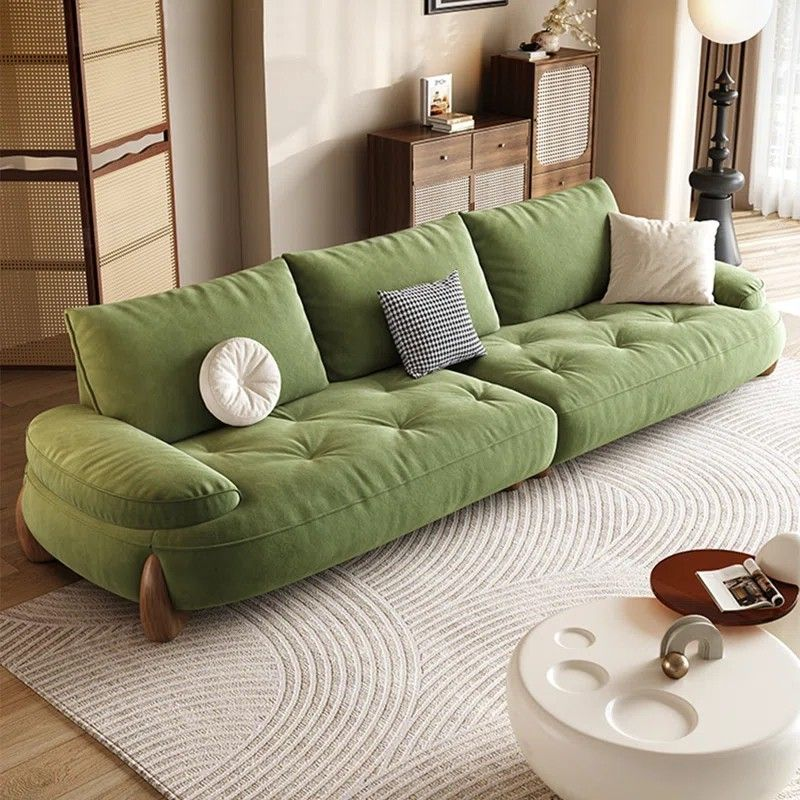3seatersofa: (17, 178, 783, 640)
backrest: (62, 171, 633, 443)
leftarmrest: (714, 263, 765, 309)
leg: (139, 555, 186, 641), (16, 489, 53, 562), (757, 361, 777, 376)
pillow: (378, 271, 485, 378), (602, 212, 715, 304), (199, 337, 287, 425)
rightarmrest: (22, 405, 239, 598)
seat: (152, 304, 782, 609)
